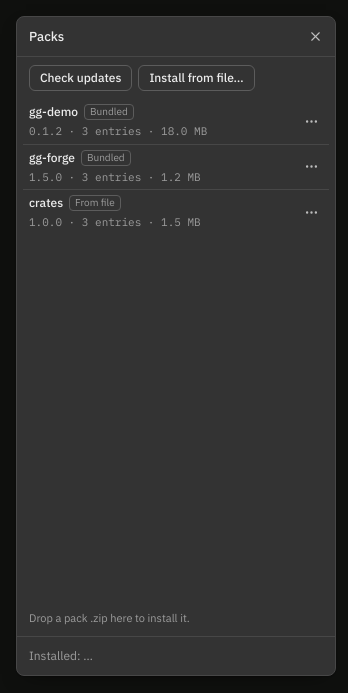
Test: PacksSheet › the row menu: Details for every pack, Uninstall only for a file pack
The width and height of the screenshot is (348, 693).
Click the button named "gg-forge options". click: [311, 167]
box: [297,153,325,181]
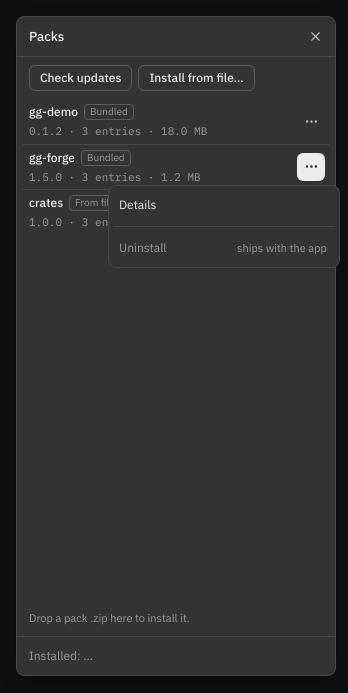
Click the menu item "Details". click: [224, 205]
box: [113,190,335,220]
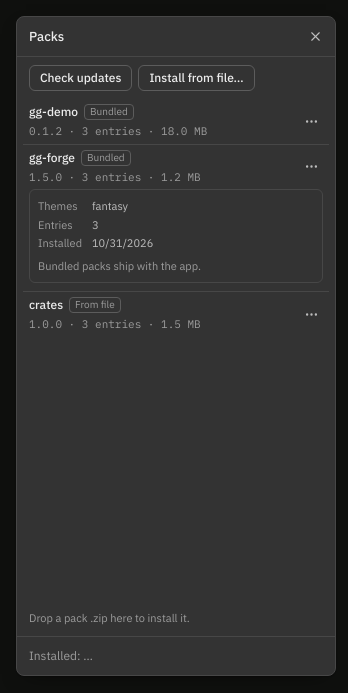
Check: the element with test id "v2-pack-details" shows "Bundled packs ship with the app.", box [38,258,201,272]
Click the button named "crates options". click: [311, 314]
box: [297,300,325,328]
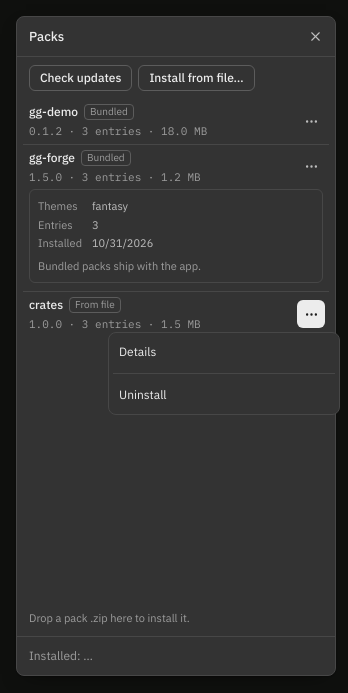
Click the menu item "Details". click: [224, 352]
box: [113,337,335,367]
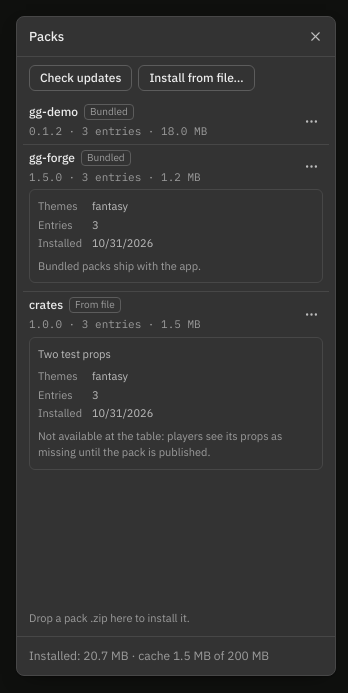
Check: the element with test id "v2-pack-details" shows "Two test props", box [38,346,111,360]
Check: the element with test id "v2-pack-details" shows "fantasy", box [92,369,128,383]
Check: the element with test id "v2-pack-details" shows "Not available at the table", box [38,428,282,459]
